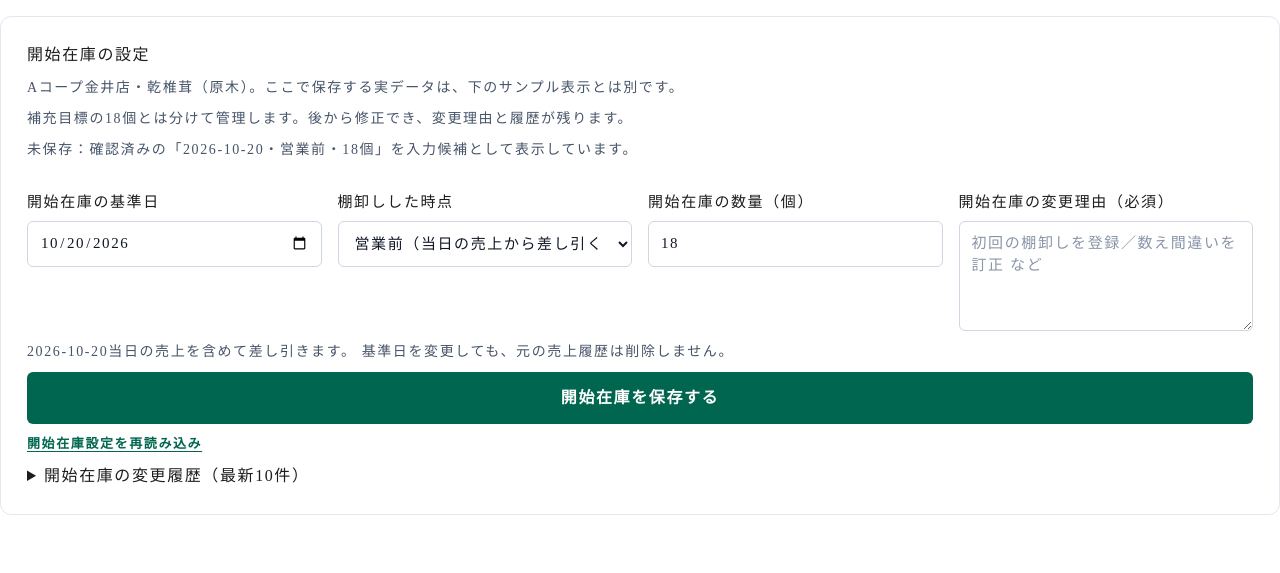
Scenario: blocks overwrite on conflict until the current settings are reloaded
The width and height of the screenshot is (1280, 573).
Expected: the text "未保存：確認済みの「2026-10-20・営業前・18個」を入力候補として表示しています。" is shown, [27,142,638,157]
In the text box labelled "開始在庫の変更理由（必須）": (1106, 276) [958,220,1253,330], type "訂正"
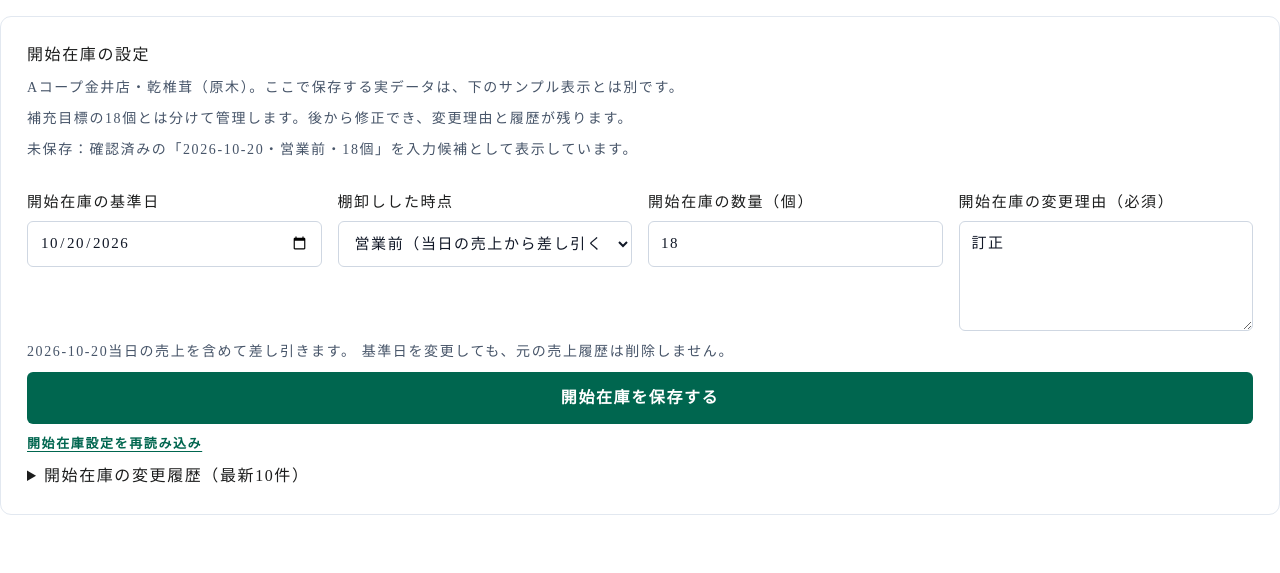
Click the button "開始在庫を保存する": (640, 398) [27,372,1253,424]
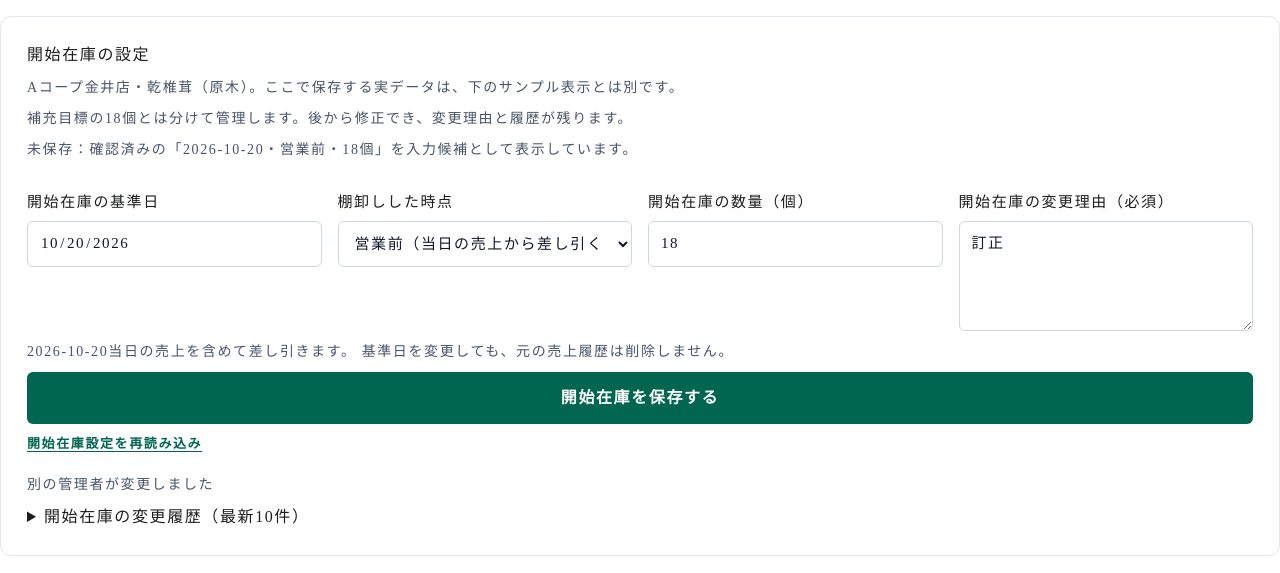
Expected: the message "別の管理者が変更しました" is shown, [27,476,214,492]
